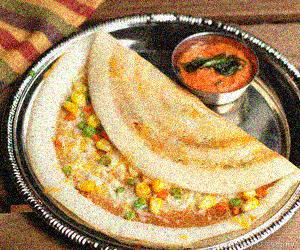dosa: (22, 29, 300, 249)
